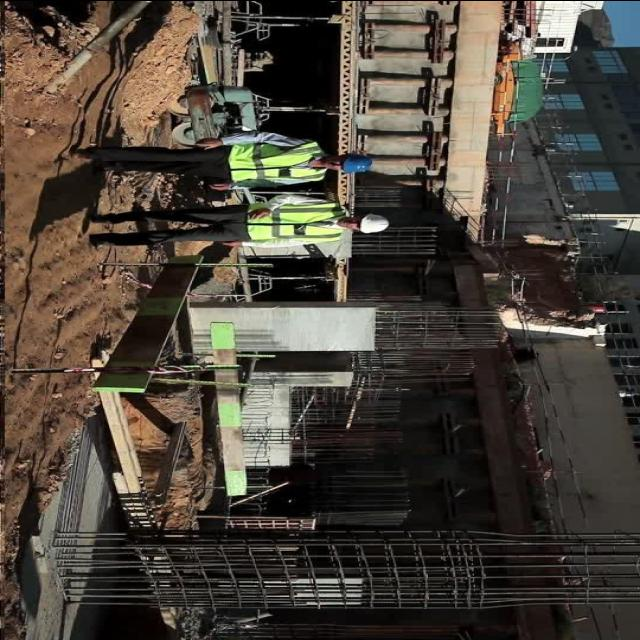helmet: (353, 210, 397, 234), (338, 148, 378, 172)
jacket: (224, 132, 334, 184), (245, 197, 353, 244)
